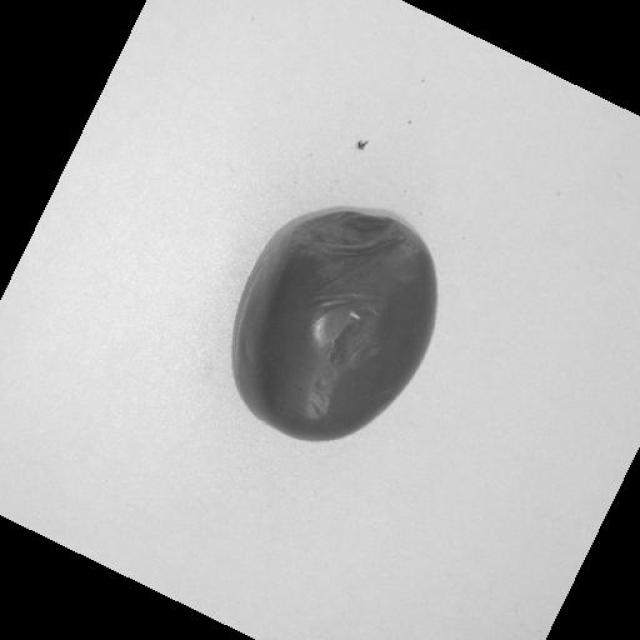Stale_tomato: (242, 206, 433, 448)
